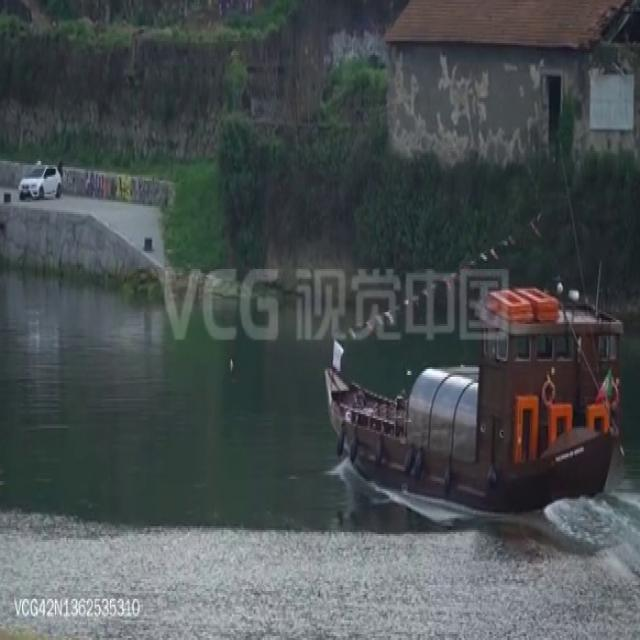fishing boat: (322, 289, 622, 512)
